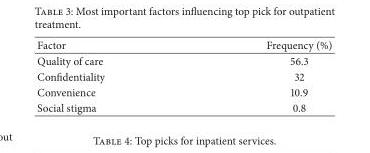table: (36, 36, 331, 114)
table column: (36, 36, 184, 114), (184, 36, 331, 114)
table column header: (36, 36, 331, 52)
table row: (36, 36, 331, 52), (36, 52, 331, 68), (36, 83, 331, 99), (36, 68, 331, 83), (36, 99, 331, 114)
